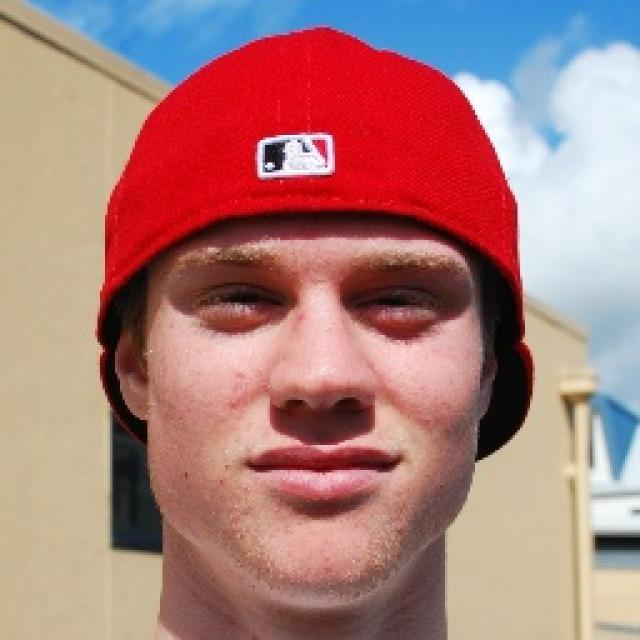earlobe: (112, 299, 148, 423), (478, 297, 505, 425)
